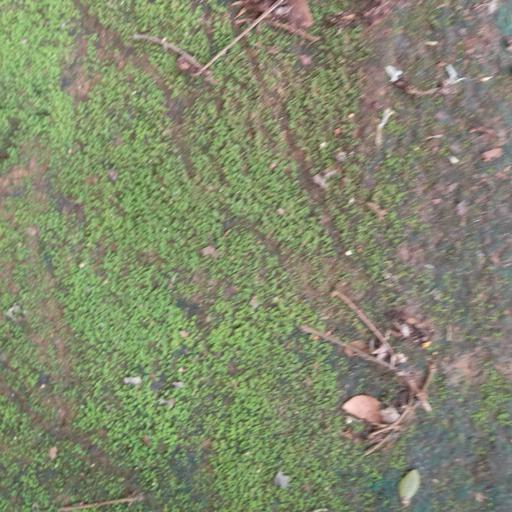algae: (0, 0, 511, 502)
